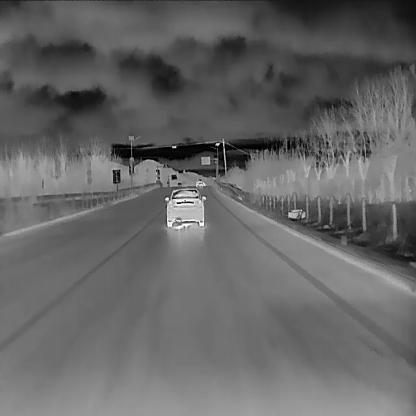car: (164, 186, 207, 227), (195, 177, 204, 187)
